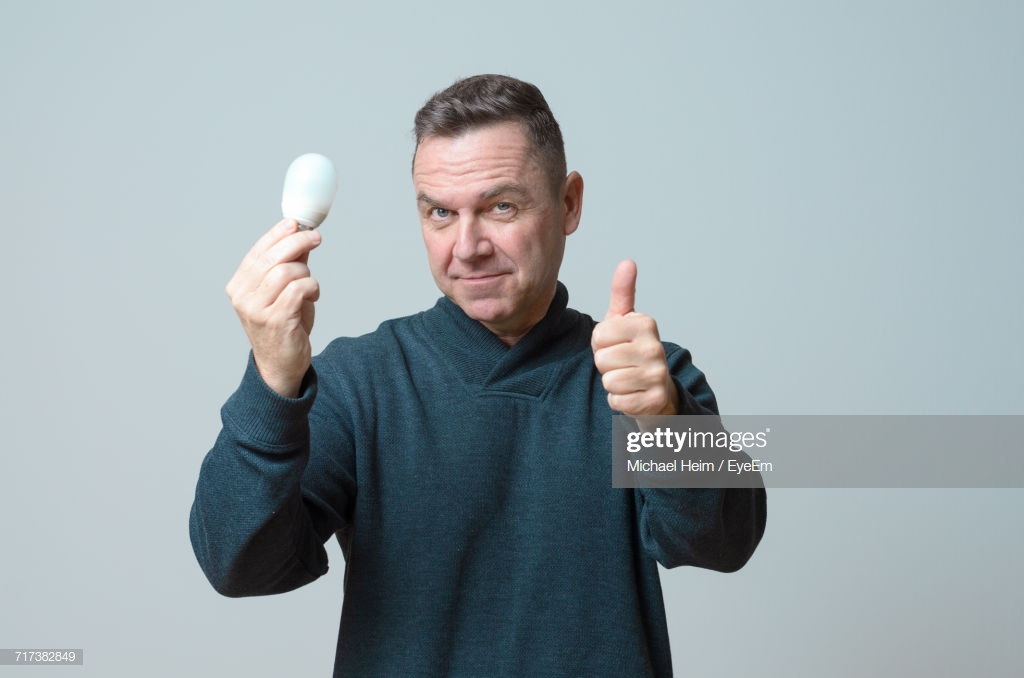thumbsup: (589, 258, 670, 415)
